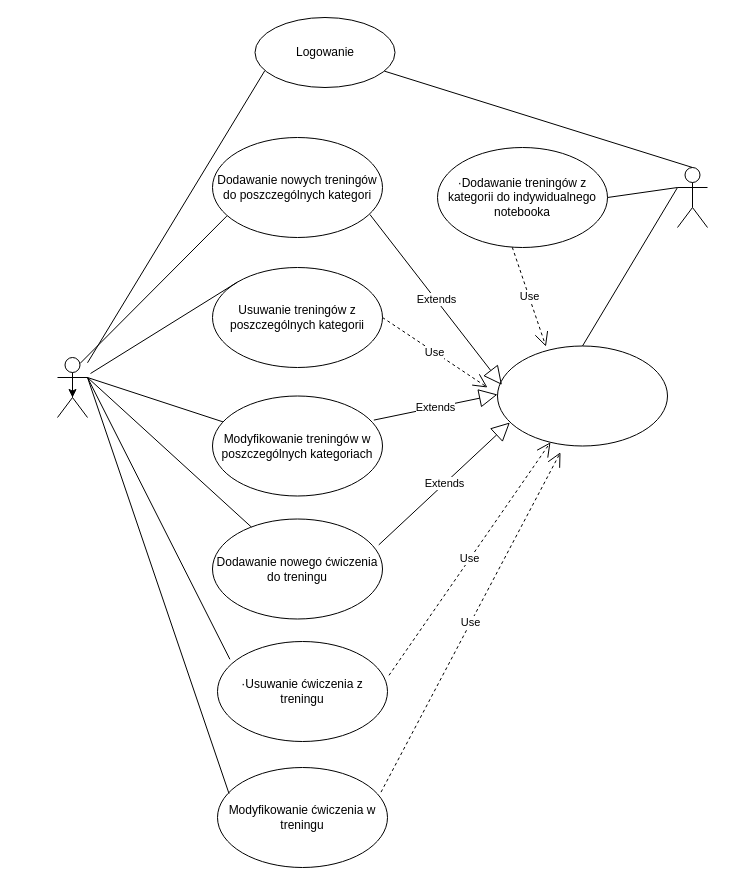
The diagram is 740 pixels wide and 885 high, and some of its shapes have lost their labels. The shapes that lost their labels are listed below. From the top down, each one's centre as x and y in pixels, then its label:
pixel 692 197: Użytkownik
pixel 72 387: Trener, Administrator
pixel 582 395: Przeglądanie treningów w poszczególnych kategoriach
